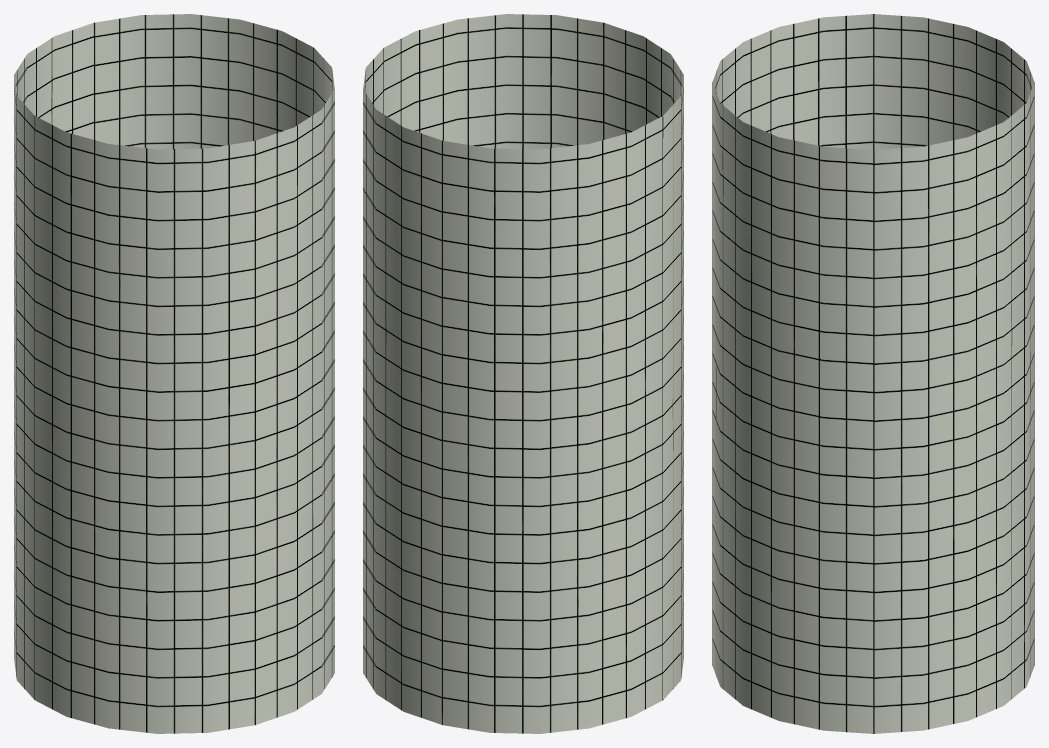
File: Pillar.fbx
3 renders of one model, left to right at view 1: azimuth 30°, elevation 25°; view 2: azimuth 150°, elevation 25°; view 3: azimuth 270°, elevation 25°, orthographic.
Visible parts, largest first — view 1: Pillar; view 2: Pillar; view 3: Pillar.
Boxes of the visible parts, x1,y1,x2,y2 form: Pillar: [14, 14, 334, 733]; Pillar: [363, 14, 683, 733]; Pillar: [712, 14, 1034, 733].
Bounding box in the file's own units: 200 × 400 × 200.
